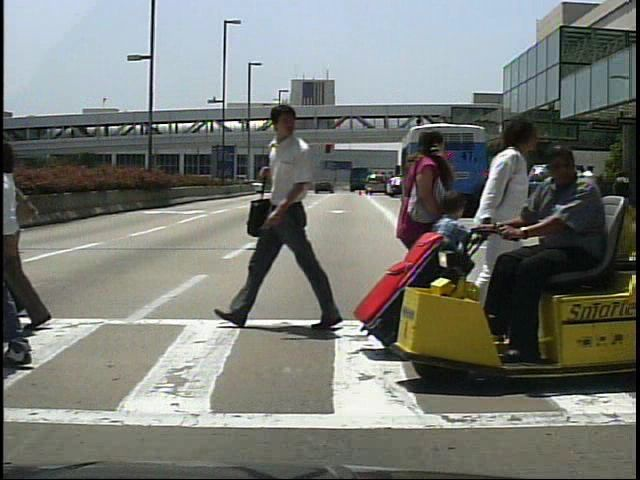person: (495, 143, 622, 374), (232, 101, 334, 335), (465, 106, 556, 356), (389, 124, 454, 355), (4, 133, 75, 327), (427, 187, 471, 319), (582, 163, 602, 218), (499, 166, 517, 219), (494, 164, 513, 213)
